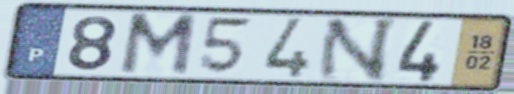4: (260, 15, 315, 81), (395, 18, 443, 85)
5: (195, 14, 256, 78)
8: (67, 14, 119, 72)
M: (115, 12, 201, 79)
N: (313, 16, 402, 83)
